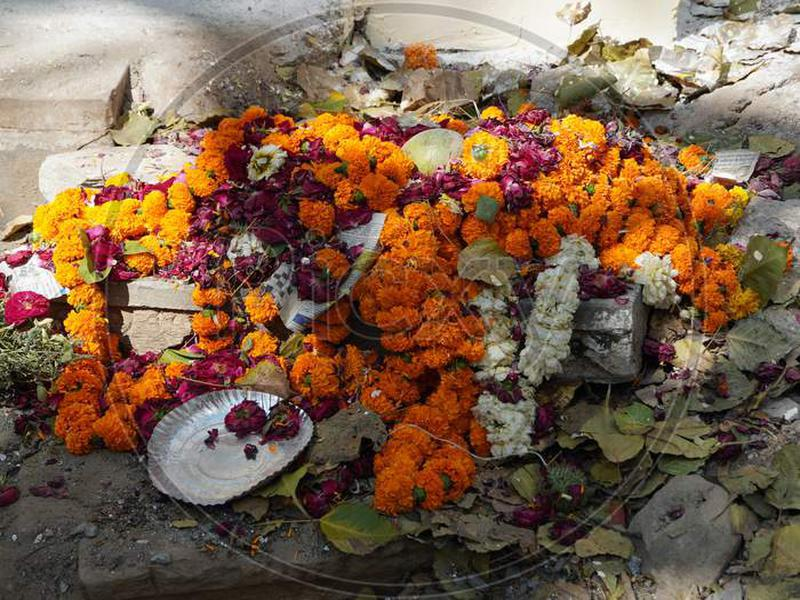flowers: (33, 105, 762, 514)
leaf: (309, 500, 438, 561), (83, 58, 166, 146), (308, 396, 391, 476), (563, 410, 646, 471), (722, 312, 792, 379), (732, 519, 800, 587), (647, 411, 729, 466), (643, 39, 727, 91), (451, 235, 524, 292), (738, 230, 794, 304), (413, 57, 490, 106), (547, 60, 624, 108), (752, 438, 800, 513), (283, 52, 357, 100), (569, 525, 653, 564), (707, 464, 786, 498), (741, 15, 797, 57)
